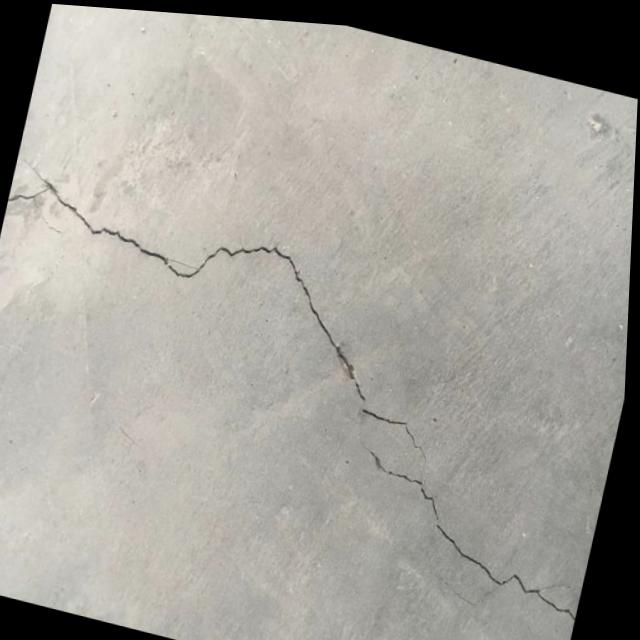Crack: (247, 263, 631, 628), (10, 106, 330, 343)
